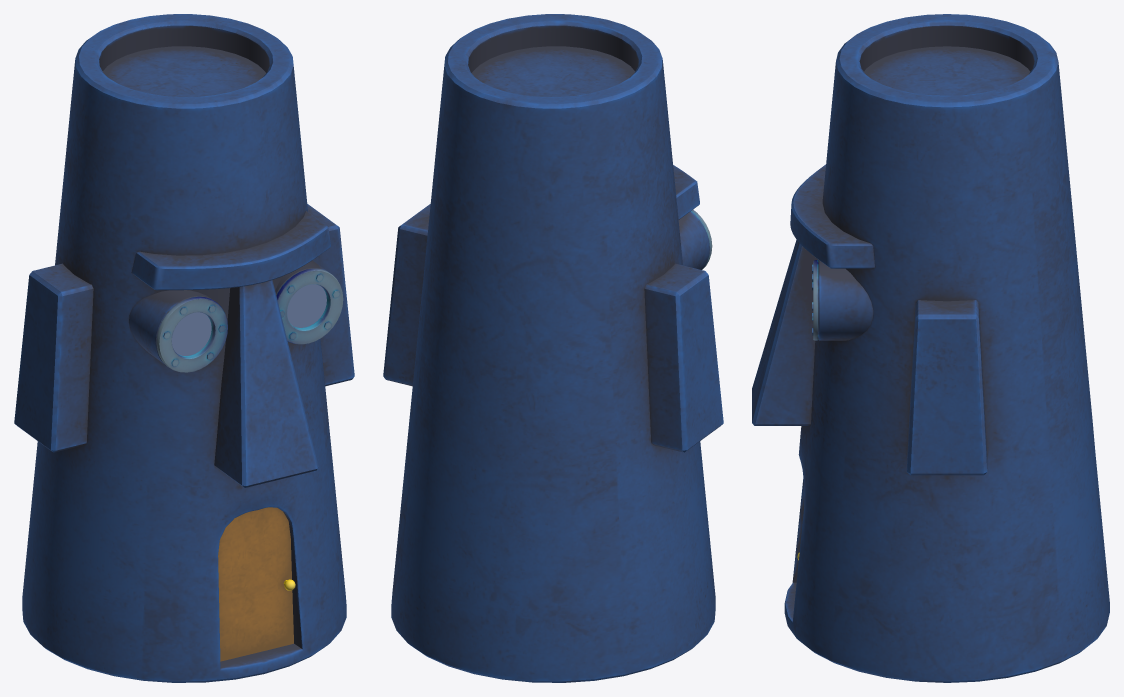
File: Squidwards House.fbx
The picture shows the model from 3 angles, left to right: view 1: azimuth 30°, elevation 25°; view 2: azimuth 150°, elevation 25°; view 3: azimuth 270°, elevation 25°; orthographic projection.
Parts seen in each view (by area): view 1: House; view 2: House; view 3: House.
Boxes of the visible parts, box(x1,y1,x2,y2) form: House: box(14, 14, 354, 682); House: box(383, 14, 723, 682); House: box(752, 14, 1109, 682).
Size of the model in its own units: 414 by 724 by 421.
1 material, 1 textured.
